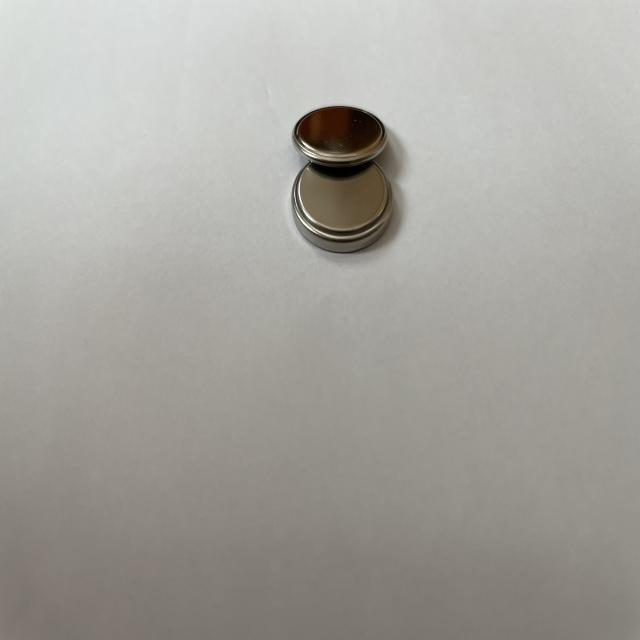COIN: (288, 158, 398, 253), (291, 104, 388, 168)
